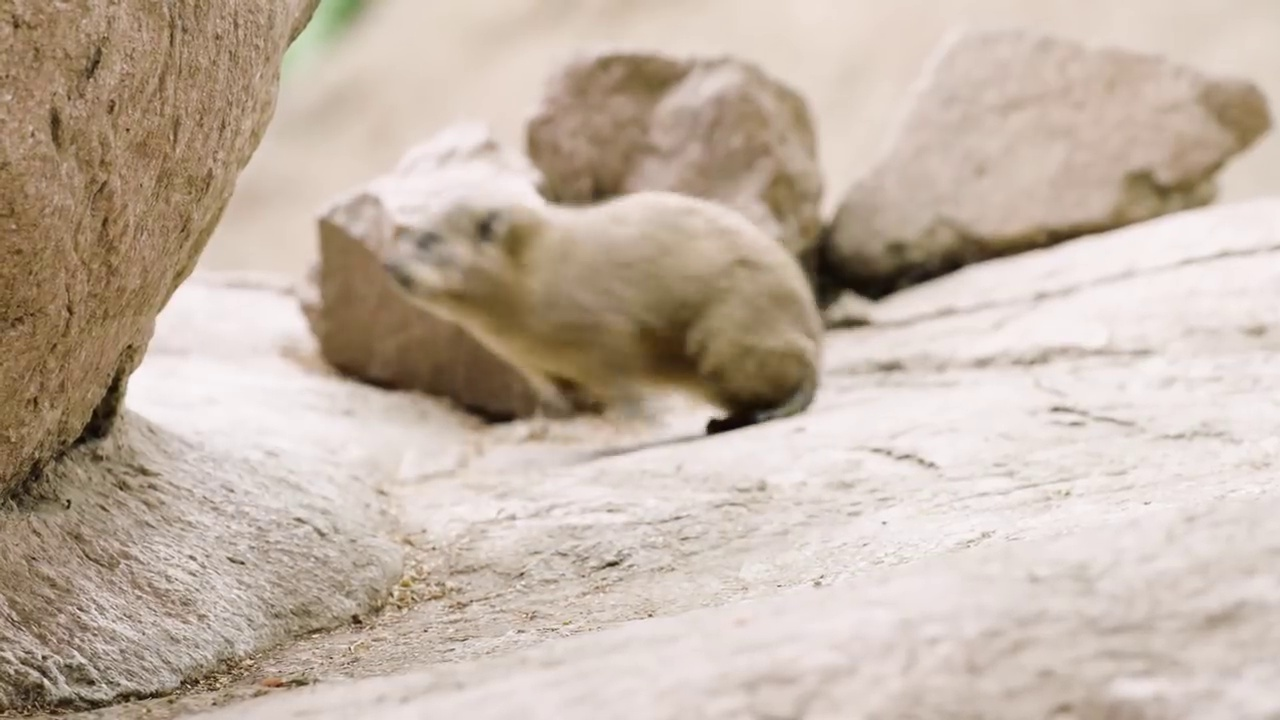Rock Hyrex: (381, 178, 821, 430)
